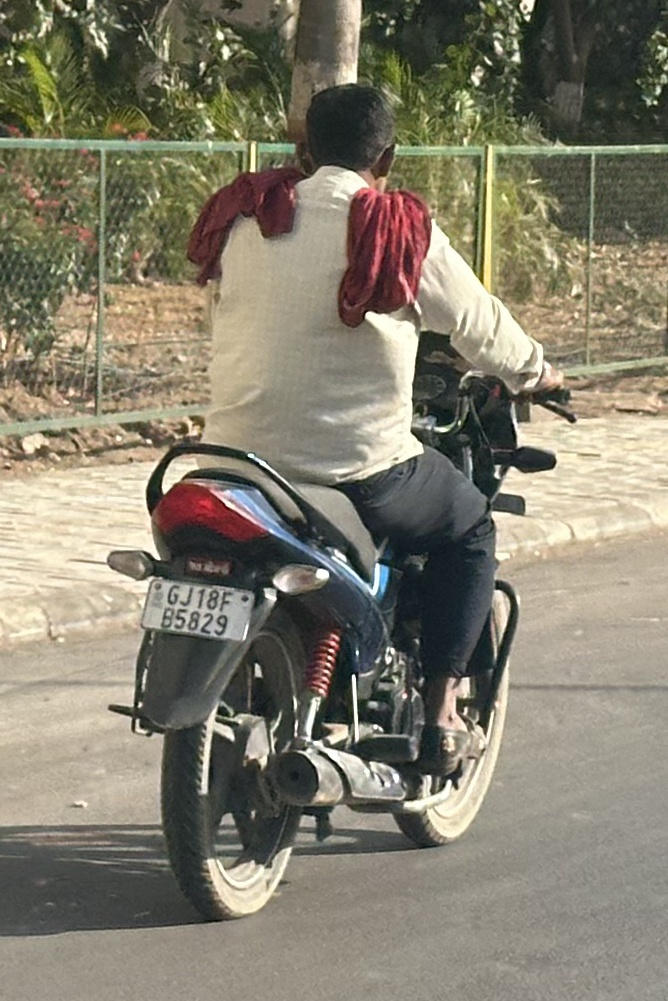BikeWithRider: (93, 70, 588, 932)
NoHelmet: (291, 74, 410, 194)
